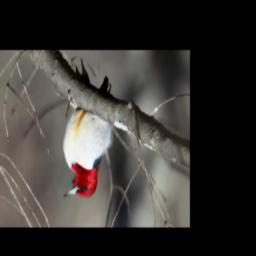Woodpecker: (60, 56, 116, 198)
